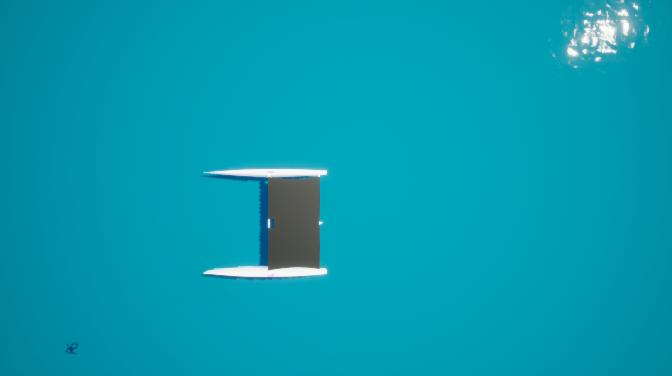boat: (202, 168, 334, 284)
drone: (62, 341, 81, 359)
land_base: (268, 178, 319, 268)
light_reflex: (537, 0, 664, 73)
